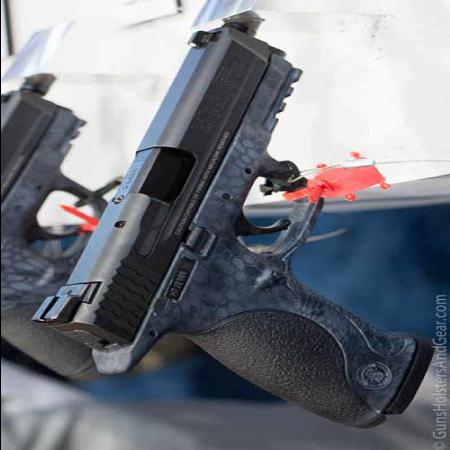Pistol: (27, 16, 405, 432)
